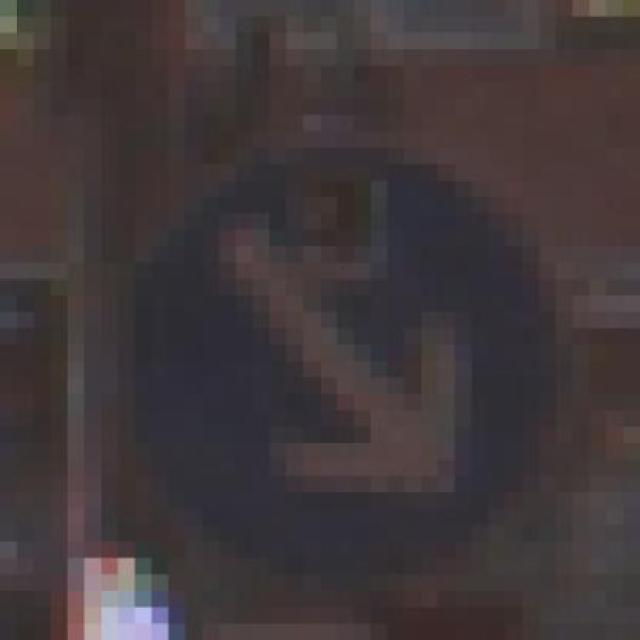Keep-Right: (67, 148, 590, 590)
